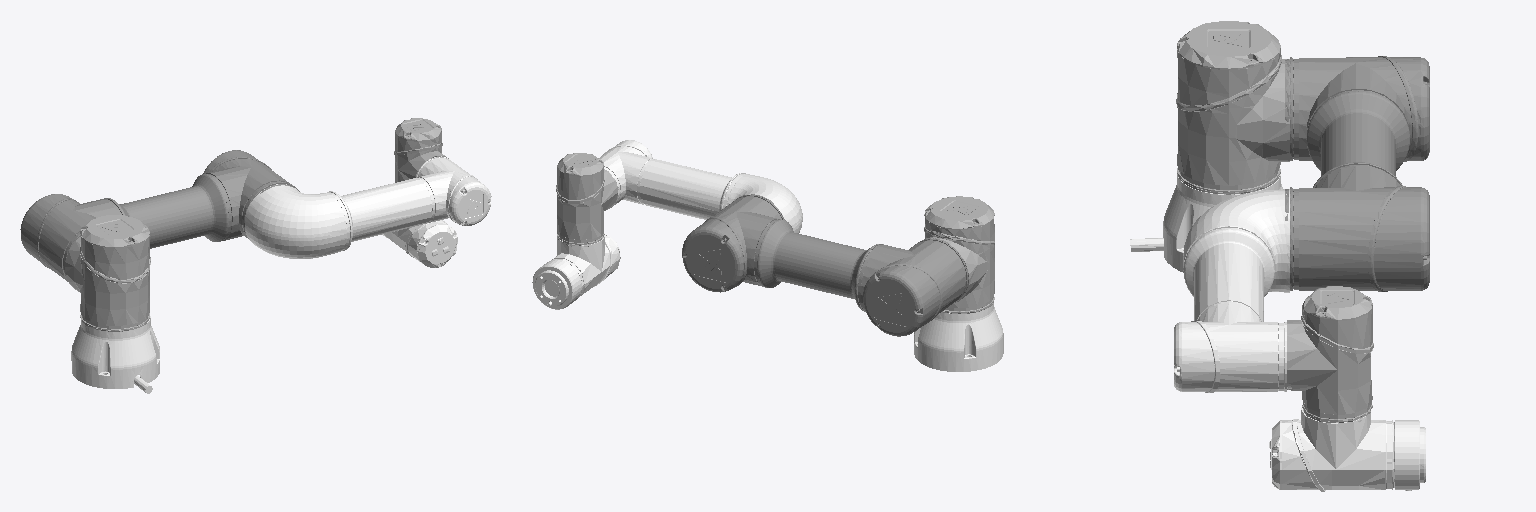
The robot description file, URDF, robot "GBT_C7A":
<?xml version="1.0" encoding="utf-8"?>
<!-- This URDF was automatically created by SolidWorks to URDF Exporter! Originally created by Stephen Brawner (brawner@gmail.com) 
     Commit Version: 1.6.0-1-g15f4949  Build Version: 1.6.7594.29634
     For more information, please see http://wiki.ros.org/sw_urdf_exporter -->
<robot
  name="GBT_C7A">
  <link
    name="base_link">
    <inertial>
      <origin
        xyz="-5.26704954492915E-06 -0.0098126576895962 0.0491108287185979"
        rpy="0 0 0" />
      <mass
        value="9.16040326523465" />
      <inertia
        ixx="0.0419458054611511"
        ixy="1.03351238796275E-05"
        ixz="-1.16385212137257E-06"
        iyy="0.0160795355795088"
        iyz="-0.00415210835016869"
        izz="0.0465550656362786" />
    </inertial>
    <visual>
      <origin
        xyz="0 0 0"
        rpy="1.5707963268 0 0" />
      <geometry>
        <mesh
          filename="package://gbt_description/meshes/visual/c7a/c7a_base.dae" />
      </geometry>
      <material
        name="">
        <color
          rgba="1 1 1 1" />
      </material>
    </visual>
    <collision>
      <origin
        xyz="0 0 0"
        rpy="1.5707963268 0 0" />
      <geometry>
        <mesh
          filename="package://gbt_description/meshes/collision/c7a/c7a_base.STL" />
      </geometry>
    </collision>
  </link>
  <link
    name="link1">
    <inertial>
      <origin
        xyz="-2.2231E-07 0.0039863 0.082573"
        rpy="0 0 0" />
      <mass
        value="15.175" />
      <inertia
        ixx="0.047239"
        ixy="-1.1092E-08"
        ixz="6.1658E-07"
        iyy="0.045942"
        iyz="-0.00010066"
        izz="0.029088" />
    </inertial>
    <visual>
      <origin
        xyz="0 0 0"
        rpy="0 0 0" />
      <geometry>
        <mesh
          filename="package://gbt_description/meshes/visual/c7a/c7a_1.dae" />
      </geometry>
      <material
        name="">
        <color
          rgba="0.75294 0.75294 0.75294 1" />
      </material>
    </visual>
    <collision>
      <origin
        xyz="0 0 0"
        rpy="0 0 0" />
      <geometry>
        <mesh
          filename="package://gbt_description/meshes/collision/c7a/c7a_1.STL" />
      </geometry>
    </collision>
  </link>
  <joint
    name="joint1"
    type="revolute">
    <origin
      xyz="0 0 0.094"
      rpy="0 0 0" />
    <parent
      link="base_link" />
    <child
      link="link1" />
    <axis
      xyz="0 0 1" />
    <limit
      lower="-6.283185307179"
      upper="6.283185307179"
      effort="100"
      velocity="1" />
  </joint>
  <link
    name="link2">
    <inertial>
      <origin
        xyz="0.175 -2.4749E-07 0.082978"
        rpy="0 0 0" />
      <mass
        value="42.406" />
      <inertia
        ixx="0.10612"
        ixy="2.7254E-06"
        ixz="1.9039E-06"
        iyy="1.0509"
        iyz="8.5915E-07"
        izz="1.0146" />
    </inertial>
    <visual>
      <origin
        xyz="0 0 0"
        rpy="0 1.5707963268 -1.5707963268" />
      <geometry>
        <mesh
          filename="package://gbt_description/meshes/visual/c7a/c7a_2.dae" />
      </geometry>
      <material
        name="">
        <color
          rgba="0.64706 0.64706 0.64706 1" />
      </material>
    </visual>
    <collision>
      <origin
        xyz="0 0 0"
        rpy="0 1.5707963268 -1.5707963268" />
      <geometry>
        <mesh
          filename="package://gbt_description/meshes/collision/c7a/c7a_2.STL" />
      </geometry>
    </collision>
  </link>
  <joint
    name="joint2"
    type="revolute">
    <origin
      xyz="0 0.063 0.084"
      rpy="-1.5708 0 0" />
    <parent
      link="link1" />
    <child
      link="link2" />
    <axis
      xyz="0 0 -1" />
    <limit
      lower="-1.483529864195"
      upper="4.625122517784"
      effort="100"
      velocity="1" />
  </joint>
  <link
    name="link3">
    <inertial>
      <origin
        xyz="-0.14241 6.1389E-07 0.056555"
        rpy="0 0 0" />
      <mass
        value="22.494" />
      <inertia
        ixx="0.03219"
        ixy="-6.2382E-08"
        ixz="0.014535"
        iyy="0.36351"
        iyz="6.3874E-08"
        izz="0.35645" />
    </inertial>
    <visual>
      <origin
        xyz="0 0 0"
        rpy="3.1415926535 0 -1.5707963268" />
      <geometry>
        <mesh
          filename="package://gbt_description/meshes/visual/c7a/c7a_3.dae" />
      </geometry>
      <material
        name="">
        <color
          rgba="1 1 1 1" />
      </material>
    </visual>
    <collision>
      <origin
        xyz="0 0 0"
        rpy="3.1415926535 0 -1.5707963268" />
      <geometry>
        <mesh
          filename="package://gbt_description/meshes/collision/c7a/c7a_3.STL" />
      </geometry>
    </collision>
  </link>
  <joint
    name="joint3"
    type="revolute">
    <origin
      xyz="0.35 0 0"
      rpy="-3.1416 0 3.1416" />
    <parent
      link="link2" />
    <child
      link="link3" />
    <axis
      xyz="0 0 1" />
    <limit
      lower="-2.809980095710"
      upper="2.809980095710"
      effort="100"
      velocity="1" />
  </joint>
  <link
    name="link4">
    <inertial>
      <origin
        xyz="1.2977E-07 0.0036933 0.046819"
        rpy="0 0 0" />
      <mass
        value="5.9624" />
      <inertia
        ixx="0.01117"
        ixy="8.492E-08"
        ixz="1.0592E-08"
        iyy="0.0057359"
        iyz="-0.00011927"
        izz="0.010395" />
    </inertial>
    <visual>
      <origin
        xyz="0 0 0"
        rpy="1.5707963268 0 0" />
      <geometry>
        <mesh
          filename="package://gbt_description/meshes/visual/c7a/c7a_4.dae" />
      </geometry>
      <material
        name="">
        <color
          rgba="0.75294 0.75294 0.75294 1" />
      </material>
    </visual>
    <collision>
      <origin
        xyz="0 0 0"
        rpy="1.5707963268 0 0" />
      <geometry>
        <mesh
          filename="package://gbt_description/meshes/collision/c7a/c7a_4.STL"   />
      </geometry>
    </collision>
  </link>
  <joint
    name="joint4"
    type="revolute">
    <origin
      xyz="-0.3117 0 -0.0083"
      rpy="3.1416 0 3.1416" />
    <parent
      link="link3" />
    <child
      link="link4" />
    <axis
      xyz="0 0 -1" />
    <limit
      lower="-1.483529864195"
      upper="4.625122517784"
      effort="100"
      velocity="1" />
  </joint>
  <link
    name="link5">
    <inertial>
      <origin
        xyz="1.3304E-07 -0.00083634 -0.04715"
        rpy="0 0 0" />
      <mass
        value="6.3691" />
      <inertia
        ixx="0.013244"
        ixy="1.0431E-07"
        ixz="3.2379E-08"
        iyy="0.0060649"
        iyz="-1.9476E-05"
        izz="0.012458" />
    </inertial>
    <visual>
      <origin
        xyz="0 0 0"
        rpy="0 0 0" />
      <geometry>
        <mesh
          filename="package://gbt_description/meshes/visual/c7a/c7a_5.dae" />
      </geometry>
      <material
        name="">
        <color
          rgba="1 1 1 1" />
      </material>
    </visual>
    <collision>
      <origin
        xyz="0 0 0"
        rpy="0 0 0" />
      <geometry>
        <mesh
          filename="package://gbt_description/meshes/collision/c7a/c7a_5.STL" />
      </geometry>
    </collision>
  </link>
  <joint
    name="joint5"
    type="revolute">
    <origin
      xyz="0 0.0713 0.052"
      rpy="1.5708 0 0" />
    <parent
      link="link4" />
    <child
      link="link5" />
    <axis
      xyz="0 0 -1" />
    <limit
      lower="-6.283185307179"
      upper="6.283185307179"
      effort="100"
      velocity="1" />
  </joint>
  <link
    name="link6">
    <inertial>
      <origin
        xyz="3.8813E-08 0.00017432 0.012497"
        rpy="0 0 0" />
      <mass
        value="1.0139" />
      <inertia
        ixx="0.00046196"
        ixy="1.8319E-11"
        ixz="-3.9805E-12"
        iyy="0.00046763"
        iyz="-6.4994E-08"
        izz="0.00080288" />
    </inertial>
    <visual>
      <origin
        xyz="0 0 0"
        rpy="0 1.5707963268 0" />
      <geometry>
        <mesh
          filename="package://gbt_description/meshes/visual/c7a/c7a_6.dae" />
      </geometry>
      <material
        name="">
        <color
          rgba="1 1 1 1" />
      </material>
    </visual>
    <collision>
      <origin
        xyz="0 0 0"
        rpy="0 1.5707963268 0" />
      <geometry>
        <mesh
          filename="package://gbt_description/meshes/collision/c7a/c7a_6.STL" />
      </geometry>
    </collision>
  </link>
  <joint
    name="joint6"
    type="revolute">
    <origin
      xyz="0 0.0713 -0.052"
      rpy="-1.5708 0 0" />
    <parent
      link="link5" />
    <child
      link="link6" />
    <axis
      xyz="0 0 1" />
    <limit
      lower="-6.283185307179"
      upper="6.283185307179"
      effort="100"
      velocity="1" />
  </joint>
</robot>

--- Render facts (derived) ---
3 views of the same robot in one strip: view 1: azimuth 30°, elevation 25°; view 2: azimuth 150°, elevation 25°; view 3: azimuth 270°, elevation 25° (orthographic).
Model GBT_C7A with 7 links and 6 joints (6 revolute), rooted at base_link, posed all joints at 0.
Visible links, largest first — view 1: link3, link2, link1, base_link, link4, link5; view 2: link2, link3, link1, base_link, link4, link5, link6; view 3: link2, link3, link1, link4, link5, base_link, link6.
Link boxes in pixels (<box>): link3: <box>245,156,491,258</box>; link2: <box>20,150,299,281</box>; link1: <box>65,215,150,331</box>; base_link: <box>71,316,159,393</box>; link4: <box>394,118,448,182</box>; link5: <box>383,220,457,267</box>; link2: <box>682,194,968,336</box>; link3: <box>598,140,802,233</box>; link1: <box>924,196,994,313</box>; base_link: <box>914,303,1003,371</box>; link4: <box>556,153,617,246</box>; link5: <box>552,233,620,297</box>; link6: <box>532,259,581,309</box>; link2: <box>1285,56,1429,291</box>; link3: <box>1174,189,1291,392</box>; link1: <box>1176,21,1289,194</box>; link4: <box>1287,286,1373,422</box>; link5: <box>1269,408,1394,491</box>; base_link: <box>1130,174,1282,272</box>; link6: <box>1395,420,1425,490</box>.
Bounding box of the posed robot: 0.7781 × 0.3404 × 0.2682 m (x, y, z).
7 mesh visuals loaded from 7 distinct referenced files (7 Collada DAE).
